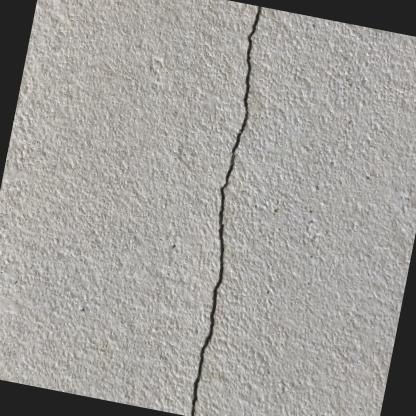crack: (190, 6, 263, 416)
